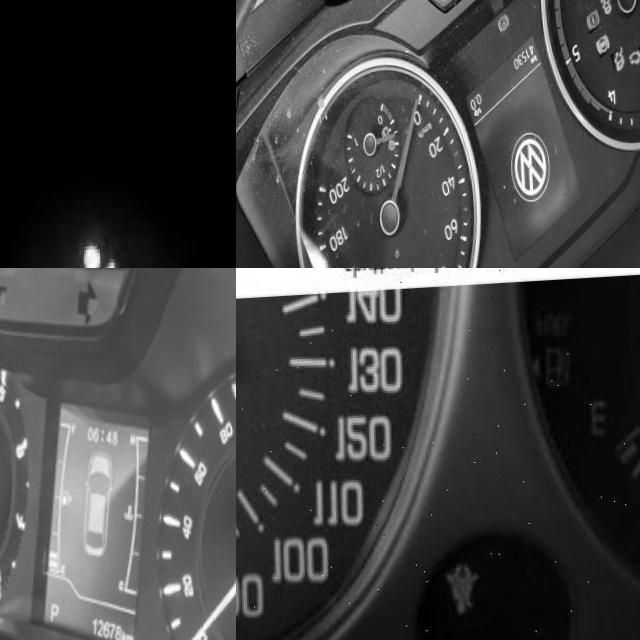Seat Belt: (443, 562, 475, 625)
